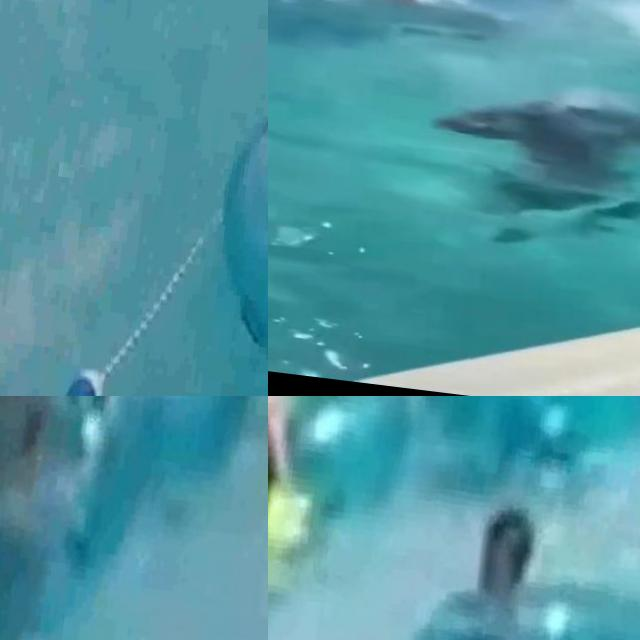drowning: (454, 71, 640, 237)
swimming: (405, 489, 640, 640), (268, 396, 339, 626), (0, 396, 85, 560), (302, 0, 430, 18)
